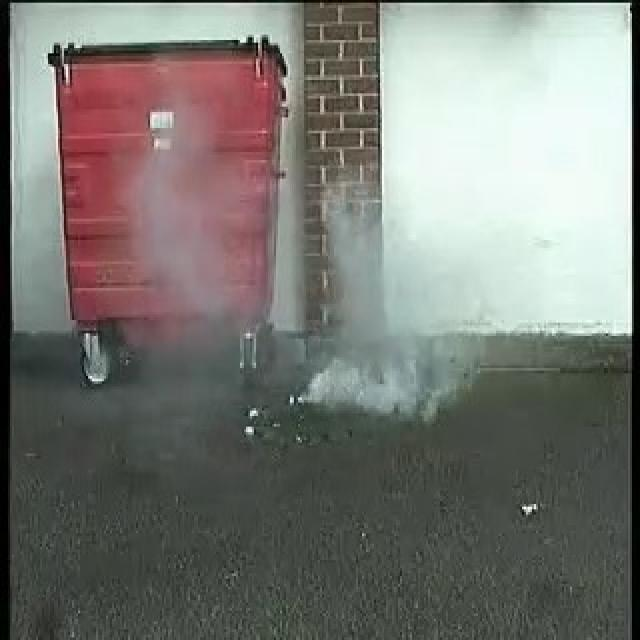smoke: (291, 182, 481, 419)
